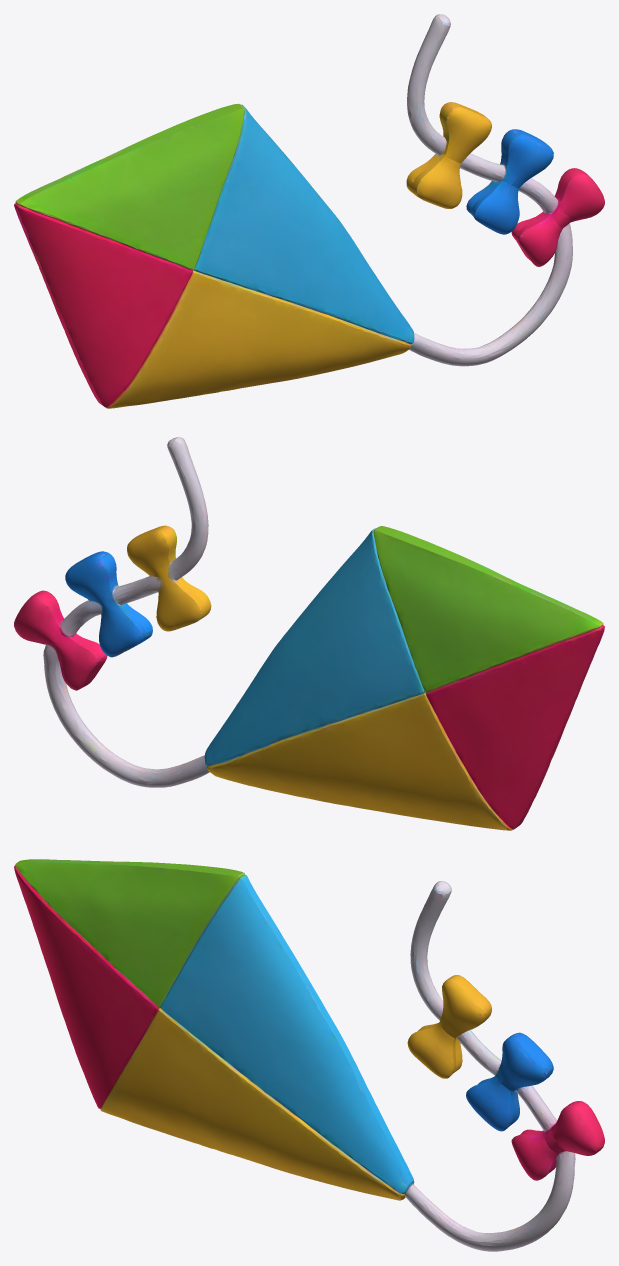
Rendered from kite.glb.
The picture shows the model from 3 angles, top to bottom: view 1: azimuth 30°, elevation 25°; view 2: azimuth 150°, elevation 25°; view 3: azimuth 330°, elevation 25°; orthographic projection.
Visible parts, largest first — view 1: Mesh; view 2: Mesh; view 3: Mesh.
Part boxes in pixels (left/top/right/bottom): Mesh: left=14, top=14, right=604, bottom=408; Mesh: left=14, top=437, right=604, bottom=830; Mesh: left=14, top=859, right=604, bottom=1251.
Bounding box in the file's own units: 1 × 0.583 × 0.1046.
Materials: 1 (1 with a texture image).
